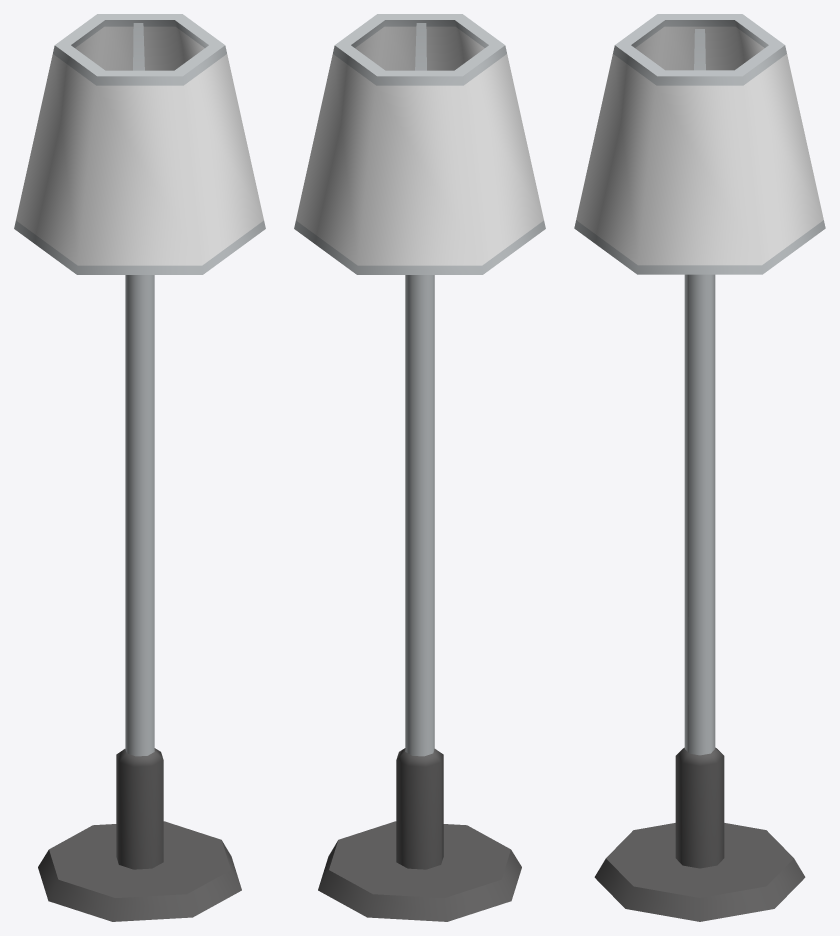
The model's file is SM_Prop_LampStanding_01.obj.
3 views of the same model, side by side, from view 1: azimuth 30°, elevation 25°; view 2: azimuth 150°, elevation 25°; view 3: azimuth 270°, elevation 25° (orthographic).
Visible parts, largest first — view 1: SM_Prop_LampStanding_01_Mat_Glow_FloorLamp_Inst, SM_Prop_LampStanding_01_Mat_SwatchOverlay_PolygonTown_01_Inst; view 2: SM_Prop_LampStanding_01_Mat_Glow_FloorLamp_Inst, SM_Prop_LampStanding_01_Mat_SwatchOverlay_PolygonTown_01_Inst; view 3: SM_Prop_LampStanding_01_Mat_Glow_FloorLamp_Inst, SM_Prop_LampStanding_01_Mat_SwatchOverlay_PolygonTown_01_Inst.
Boxes of the visible parts, left/top/right/bottom form: SM_Prop_LampStanding_01_Mat_Glow_FloorLamp_Inst: left=16, top=26, right=263, bottom=265; SM_Prop_LampStanding_01_Mat_SwatchOverlay_PolygonTown_01_Inst: left=14, top=14, right=265, bottom=921; SM_Prop_LampStanding_01_Mat_Glow_FloorLamp_Inst: left=296, top=26, right=543, bottom=265; SM_Prop_LampStanding_01_Mat_SwatchOverlay_PolygonTown_01_Inst: left=294, top=14, right=545, bottom=921; SM_Prop_LampStanding_01_Mat_Glow_FloorLamp_Inst: left=576, top=26, right=823, bottom=265; SM_Prop_LampStanding_01_Mat_SwatchOverlay_PolygonTown_01_Inst: left=574, top=14, right=825, bottom=921.
Bounding box in the file's own units: 0.6091 × 2.57 × 0.7033.
Materials: 2 (1 with a texture image).
